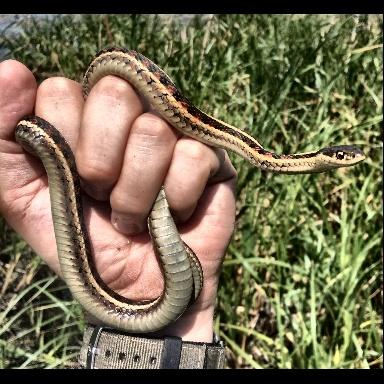snake: (10, 40, 374, 340)
